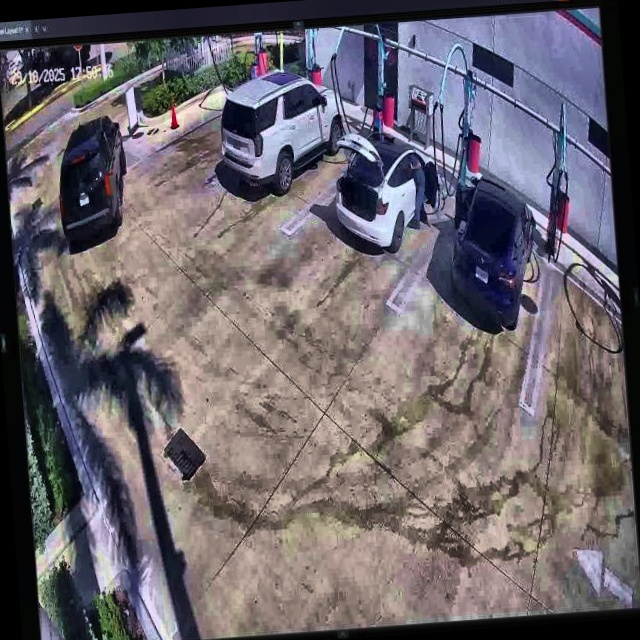Car: (213, 67, 344, 195), (334, 115, 441, 256), (447, 174, 542, 327)
